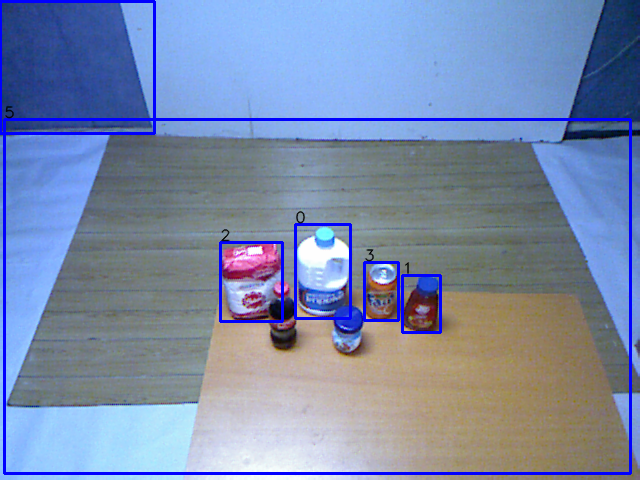cloro: (293, 225, 354, 319)
coca: (263, 278, 303, 351)
crema: (327, 303, 368, 357)
ketchup: (216, 238, 286, 325), (396, 271, 442, 337)
lata: (360, 262, 400, 322)
